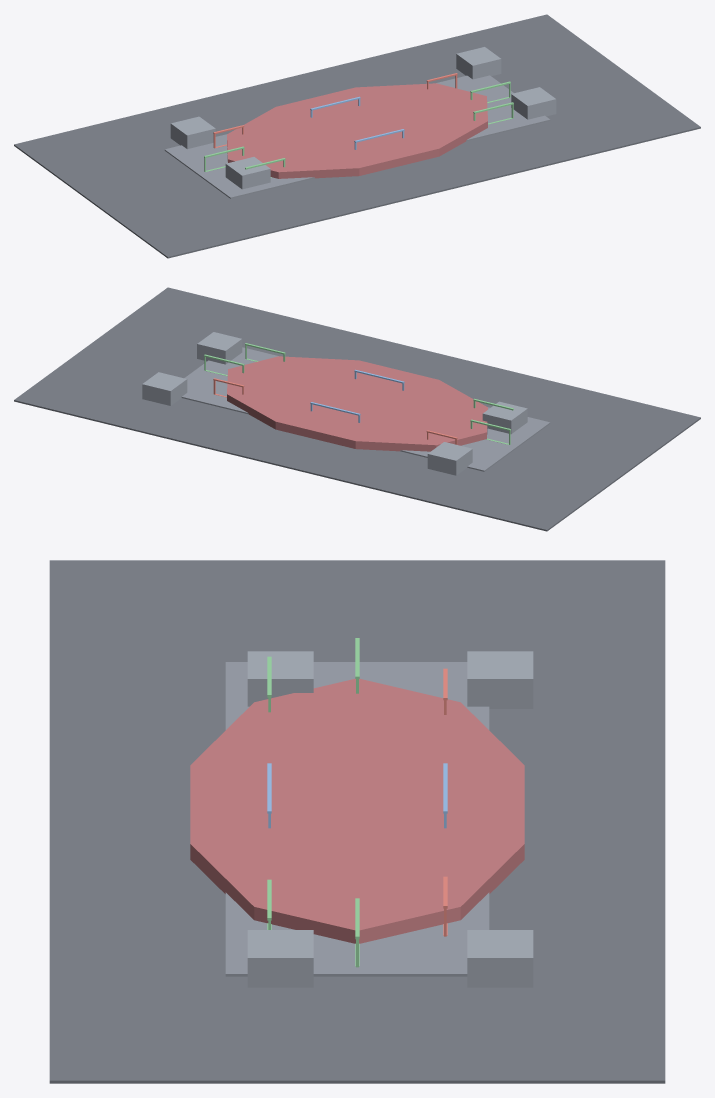
File: venue.glb
The picture shows the model from 3 angles, top to bottom: view 1: azimuth 30°, elevation 25°; view 2: azimuth 150°, elevation 25°; view 3: azimuth 270°, elevation 25°; orthographic projection. The views are drawn at different scales.
Visible parts, largest first — view 1: Structure_GROUND, Structure_STAND_N, Structure_CONCOURSE_1, Structure_WALL_CORNER_3, Structure_WALL_CORNER_1, Structure_WALL_CORNER_2, Structure_WALL_CORNER_0; view 2: Structure_GROUND, Structure_STAND_N, Structure_CONCOURSE_1, Structure_WALL_CORNER_2, Structure_WALL_CORNER_3, Structure_WALL_CORNER_1, Structure_WALL_CORNER_0; view 3: Structure_GROUND, Structure_STAND_N, Structure_CONCOURSE_1, Structure_WALL_CORNER_1, Structure_WALL_CORNER_3, Structure_WALL_CORNER_2, Structure_WALL_CORNER_0.
Boxes of the visible parts, x1=… form: Structure_GROUND: x1=14, y1=14, x2=700, y2=258; Structure_STAND_N: x1=227, y1=83, x2=487, y2=178; Structure_CONCOURSE_1: x1=164, y1=75, x2=550, y2=198; Structure_WALL_CORNER_3: x1=456, y1=47, x2=501, y2=79; Structure_WALL_CORNER_1: x1=511, y1=87, x2=556, y2=119; Structure_WALL_CORNER_2: x1=170, y1=116, x2=215, y2=148; Structure_WALL_CORNER_0: x1=225, y1=157, x2=270, y2=189; Structure_GROUND: x1=14, y1=287, x2=700, y2=531; Structure_STAND_N: x1=227, y1=356, x2=487, y2=451; Structure_CONCOURSE_1: x1=181, y1=347, x2=550, y2=471; Structure_WALL_CORNER_2: x1=427, y1=442, x2=472, y2=475; Structure_WALL_CORNER_3: x1=142, y1=372, x2=187, y2=405; Structure_WALL_CORNER_1: x1=197, y1=332, x2=242, y2=364; Structure_WALL_CORNER_0: x1=482, y1=401, x2=527, y2=433; Structure_GROUND: x1=49, y1=560, x2=665, y2=1083; Structure_STAND_N: x1=190, y1=679, x2=524, y2=943; Structure_CONCOURSE_1: x1=225, y1=662, x2=489, y2=976; Structure_WALL_CORNER_1: x1=247, y1=930, x2=313, y2=987; Structure_WALL_CORNER_3: x1=467, y1=930, x2=533, y2=987; Structure_WALL_CORNER_2: x1=467, y1=651, x2=533, y2=708; Structure_WALL_CORNER_0: x1=247, y1=651, x2=313, y2=706.
Bounding box in the file's own units: 112 × 3.63 × 56.
